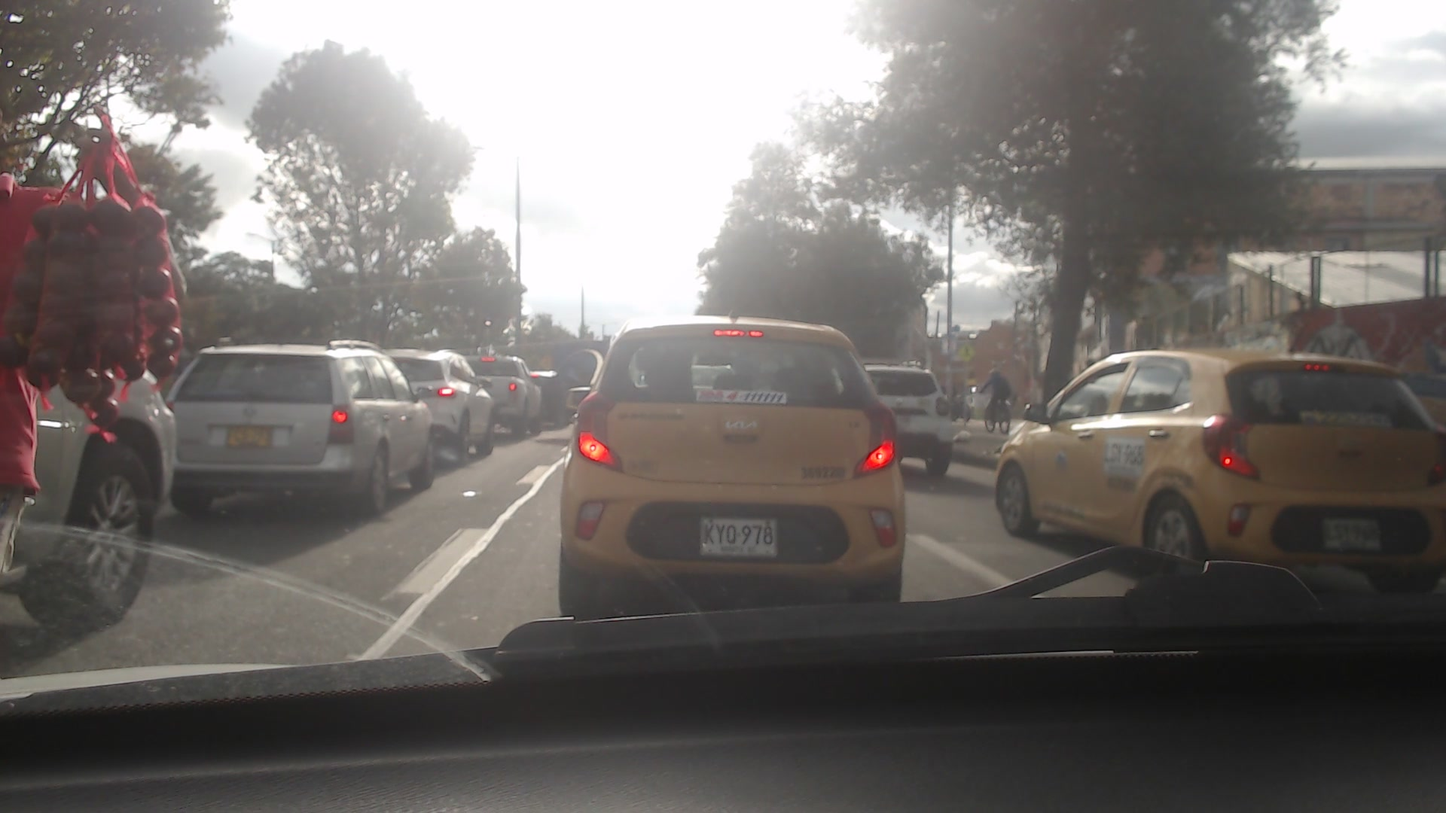bicycle: (974, 407, 1017, 432)
car: (560, 308, 904, 618), (994, 352, 1446, 569), (166, 339, 443, 509), (384, 348, 500, 459), (860, 361, 955, 475), (457, 347, 544, 437)
person: (983, 370, 1011, 407)
